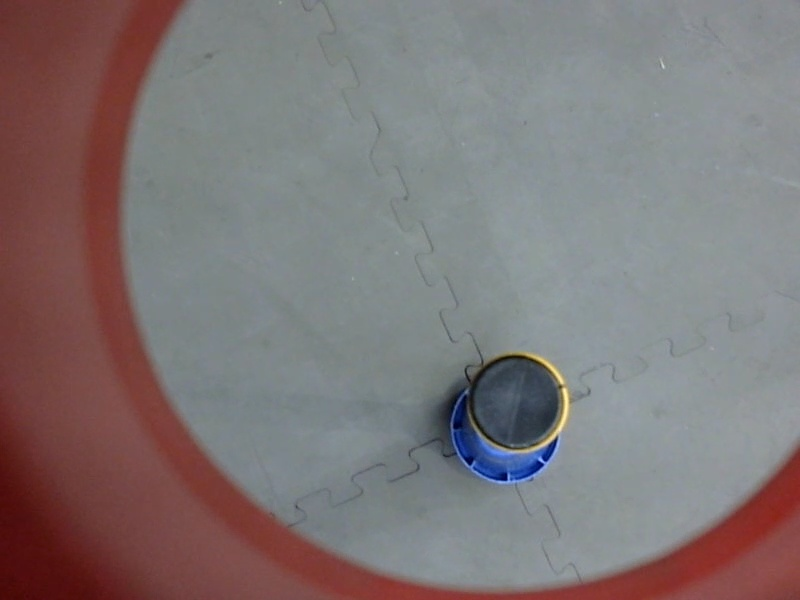tip: (462, 347, 573, 459)
